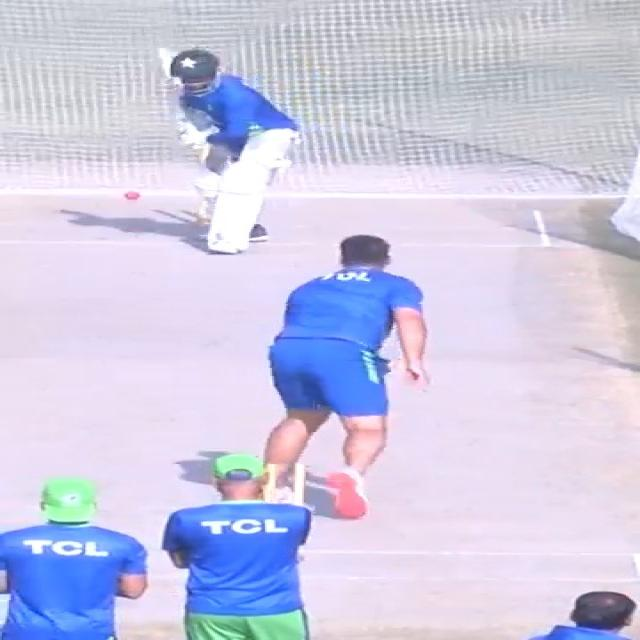Cricket ball: (121, 189, 143, 201)
